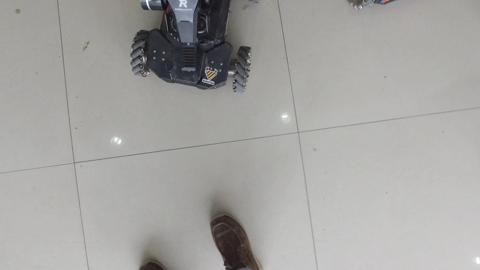chariot: (115, 1, 264, 99)
